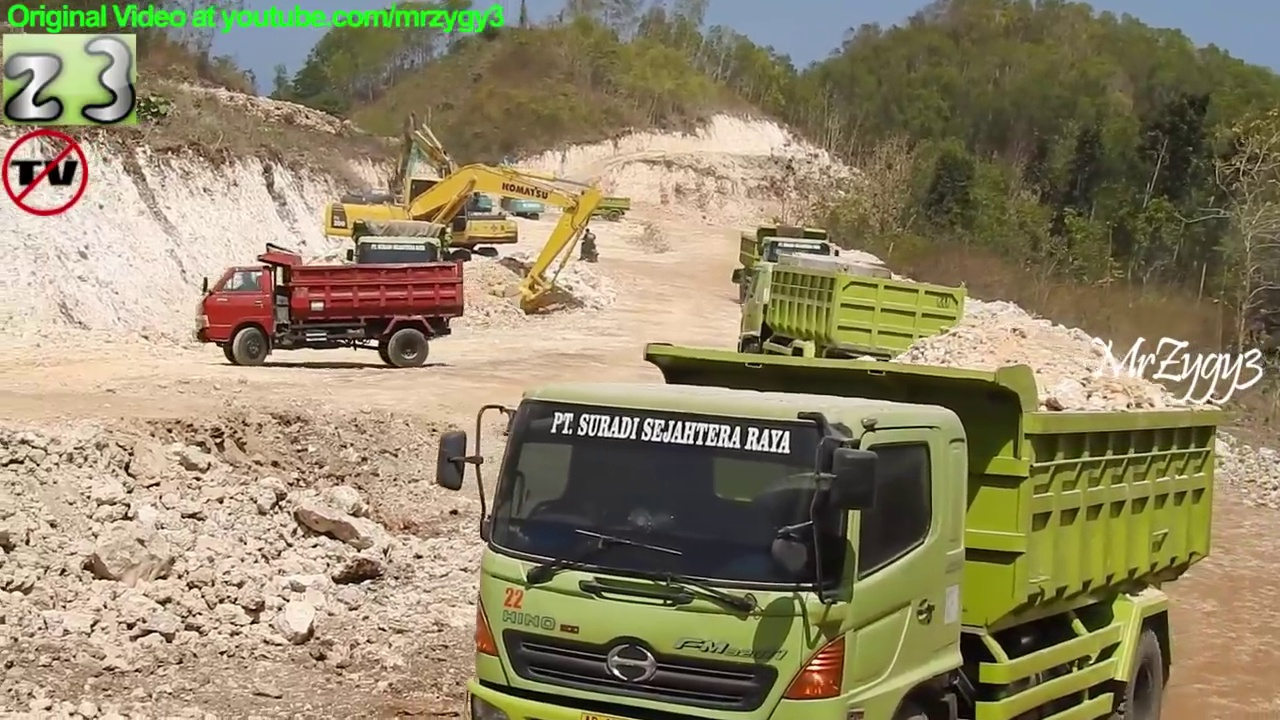excavator: (323, 158, 602, 317), (382, 109, 523, 264), (393, 133, 500, 233), (496, 158, 547, 223)
truck: (434, 341, 1225, 720), (730, 245, 974, 398), (193, 241, 468, 369), (346, 217, 472, 345), (731, 217, 847, 323), (561, 189, 633, 226)
